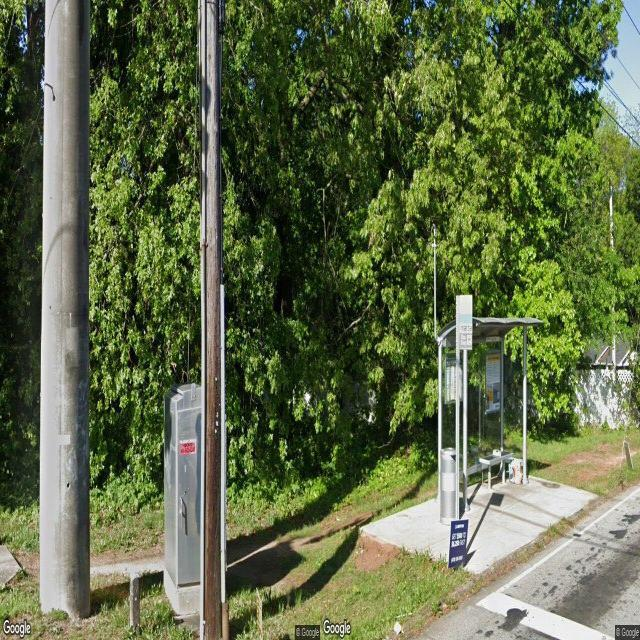seating: (478, 449, 514, 486)
shelter: (432, 311, 542, 510)
trash_can: (439, 447, 459, 524)
